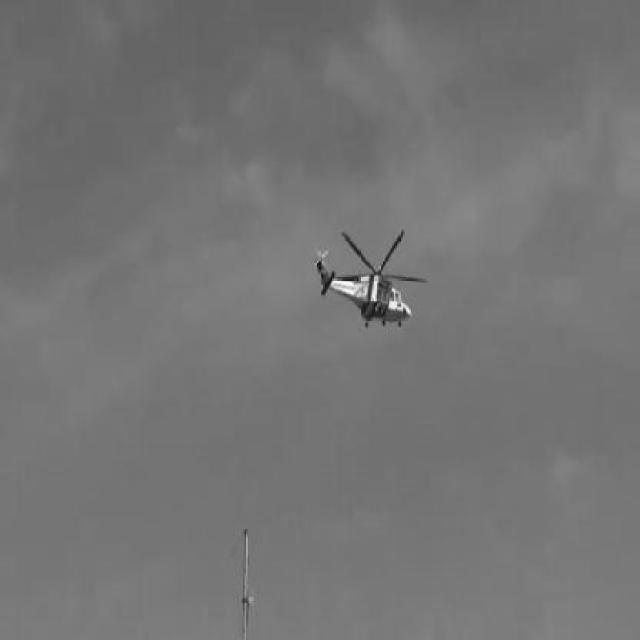helikopter: (310, 222, 432, 332)
